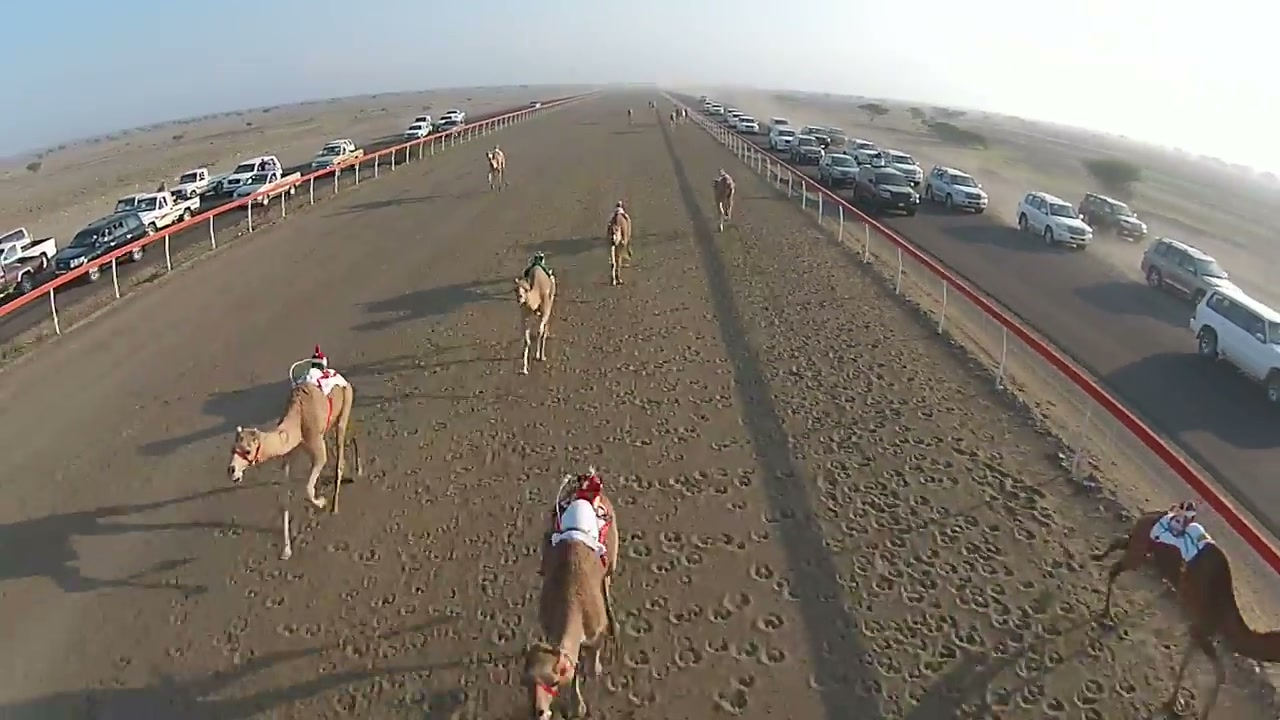animal_foot_print: (95, 136, 1180, 719), (724, 233, 1175, 717), (606, 468, 806, 716), (715, 674, 756, 715)
